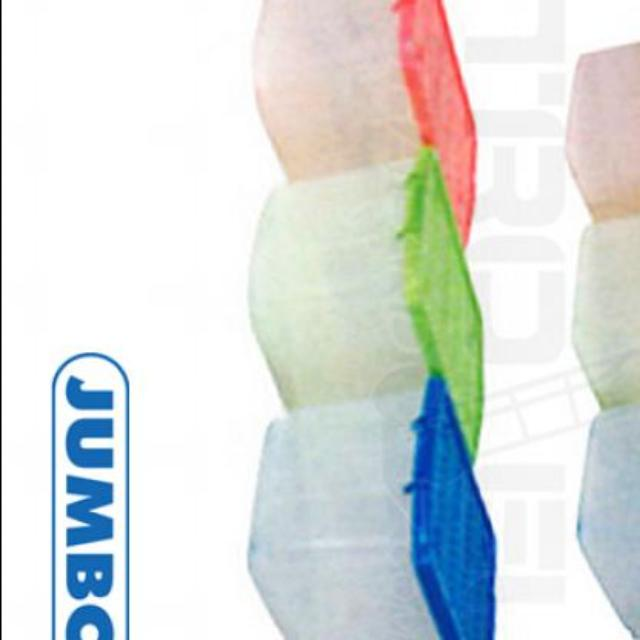plastic_box: (244, 0, 493, 638), (564, 29, 640, 638)
